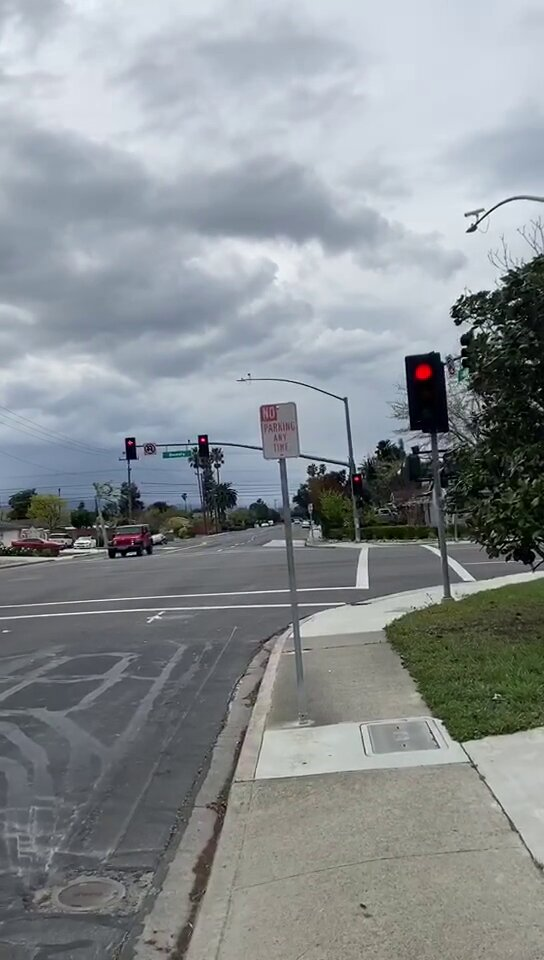red_light: (407, 355, 447, 430), (125, 435, 137, 457), (200, 434, 210, 456), (353, 472, 362, 495)
